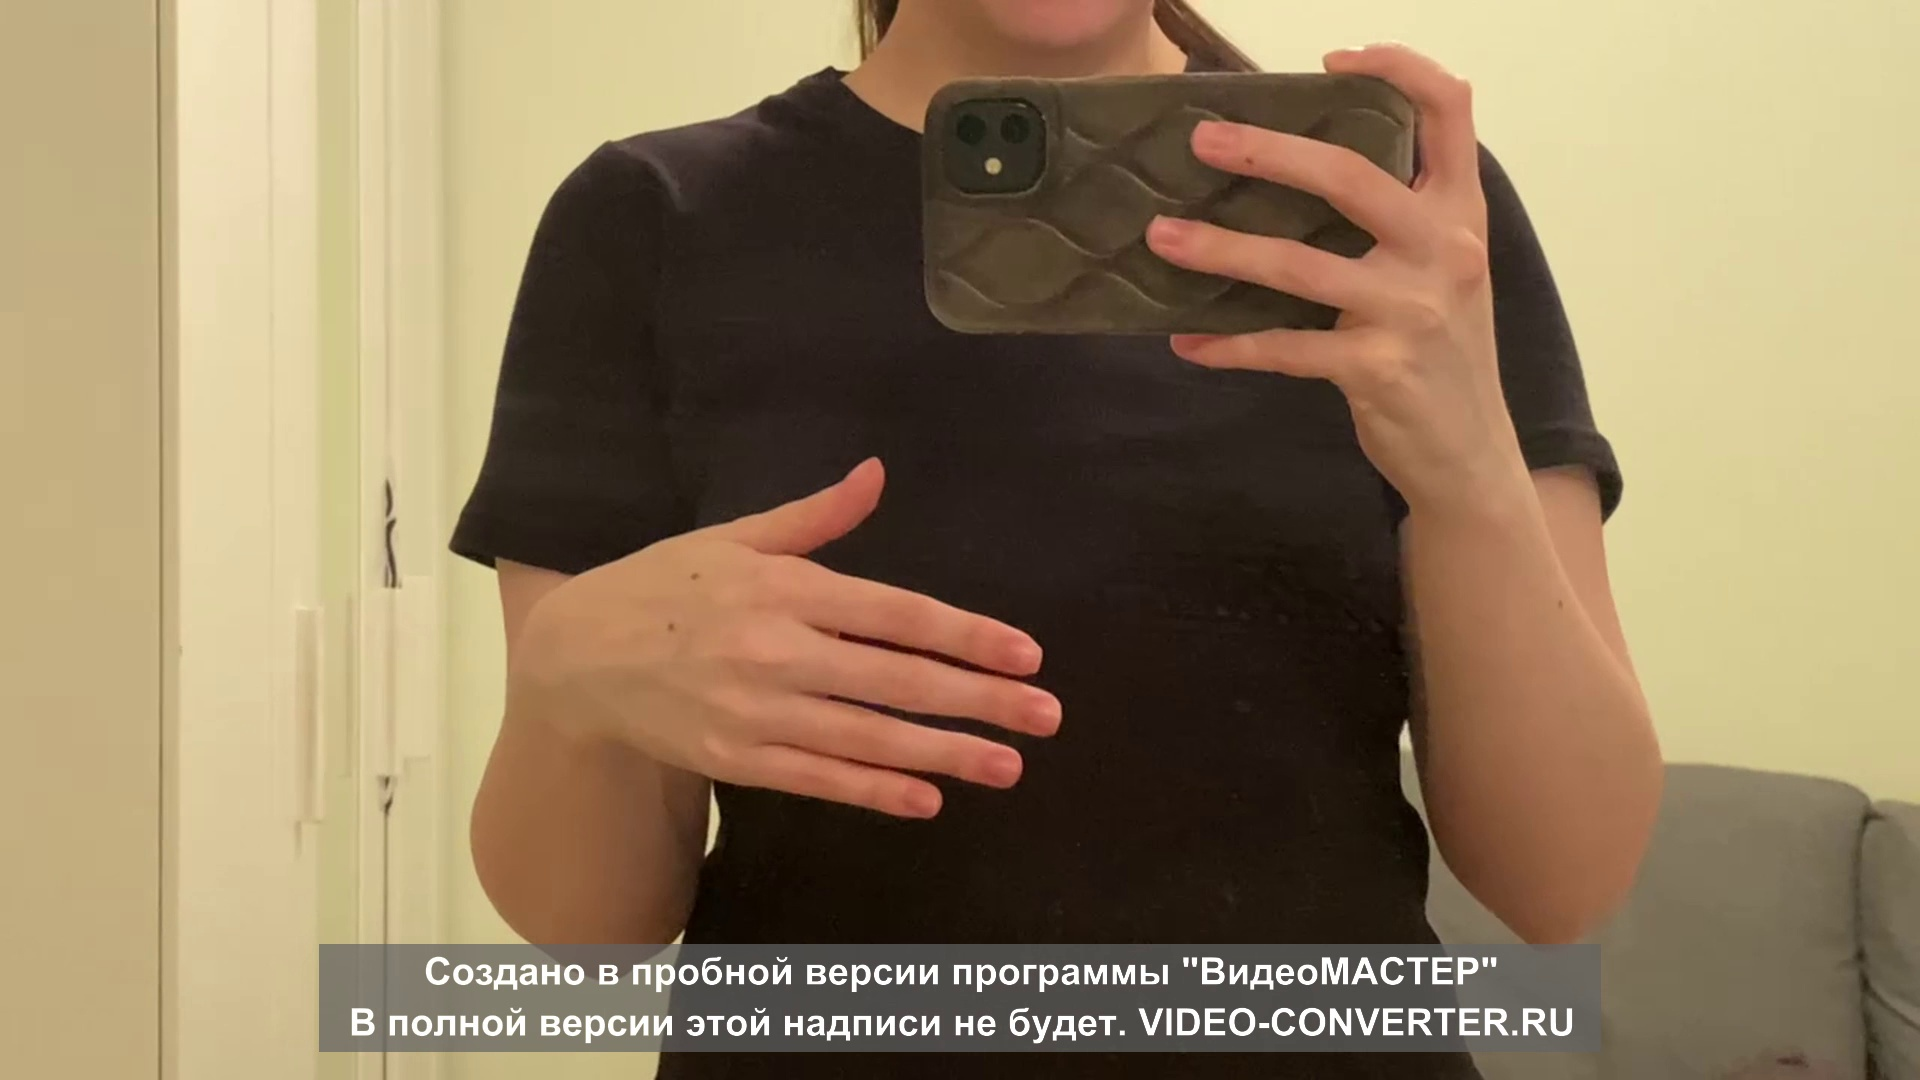Кисть: (534, 456, 1063, 818)
